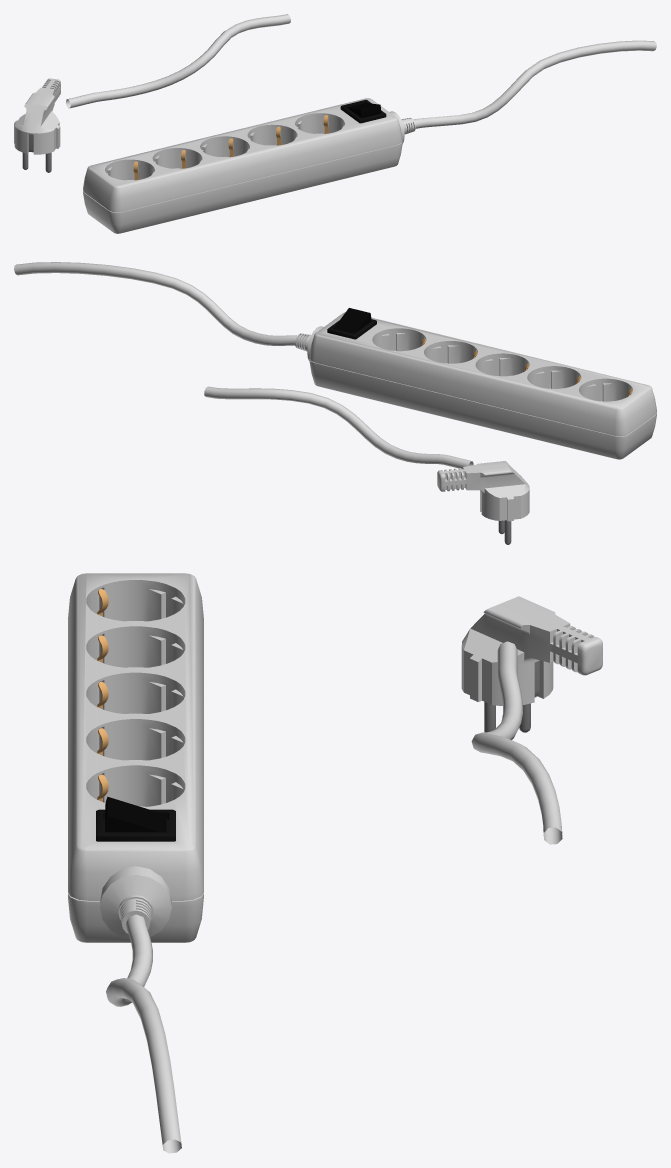
File: Plug.gltf
3 views of the same model, one above another, from view 1: azimuth 30°, elevation 25°; view 2: azimuth 150°, elevation 25°; view 3: azimuth 270°, elevation 25° (orthographic). The views are drawn at different scales.
Visible parts, largest first — view 1: connector strip, power plug, connector strip cable, power plug 1 cable, switch; view 2: connector strip, power plug, connector strip cable, power plug 1 cable, switch; view 3: connector strip, power plug, connector strip cable, power plug 1 cable, switch.
Boxes of the visible parts, x1,y1,x2,y2 form: connector strip: (83,98,415,233); power plug: (14,78,60,172); connector strip cable: (413,40,656,128); power plug 1 cable: (66,14,290,108); switch: (347,103,380,118); connector strip: (295,312,656,459); power plug: (437,461,529,544); connector strip cable: (14,262,296,345); power plug 1 cable: (204,386,473,469); switch: (333,308,371,333); connector strip: (68,573,203,942); power plug: (461,596,602,732); connector strip cable: (106,914,181,1153); power plug 1 cable: (471,641,562,844); switch: (105,796,166,832).
Bounding box in the file's own units: 51.51 × 7.97 × 21.02.
6 materials, 1 textured.
